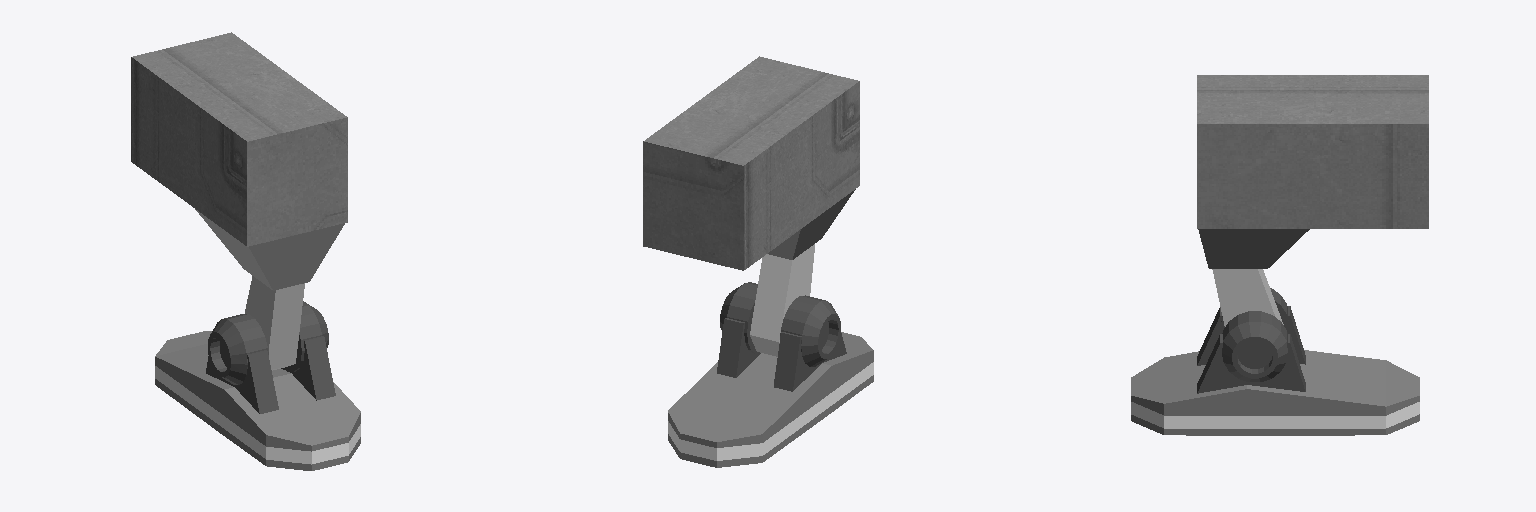
3 renders of one model, left to right at view 1: azimuth 30°, elevation 25°; view 2: azimuth 150°, elevation 25°; view 3: azimuth 270°, elevation 25°, orthographic.
Parts seen in each view (by area): view 1: Large_Grid_3821; view 2: Large_Grid_3821; view 3: Large_Grid_3821.
Part boxes in pixels (x1,y1,x2,y2): Large_Grid_3821: (131,32,360,470); Large_Grid_3821: (643,56,873,467); Large_Grid_3821: (1131,75,1428,435).
Bounding box in the file's own units: 2.5 × 7.46 × 6.42.
Materials: 2 (2 with a texture image).